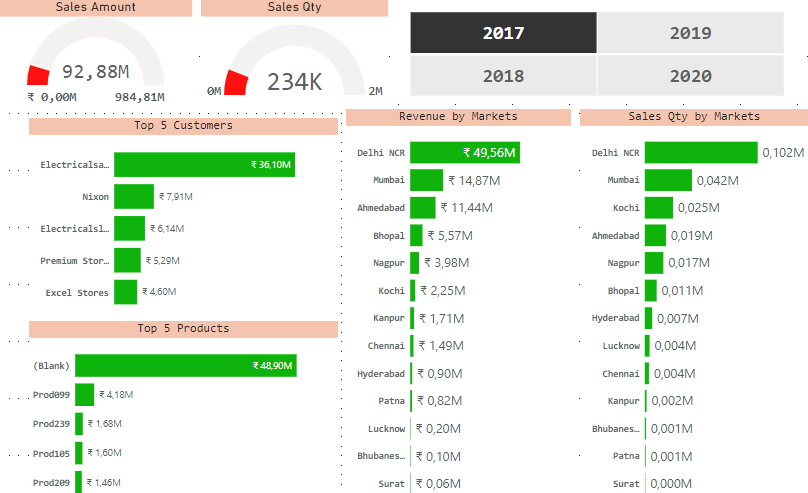

What the dashboard file says about the page in this screenshot:
{"tool":"powerbi","page":{"name":"KPIs (Listo)","canvas":[1350,850],"ordinal":0},"visuals":[{"type":"slicer","fields":{"Values":["sales date.year"]},"box":[660,15,671.7,153.3],"z":0},{"type":"gauge","title":"Sales Amount","fields":{"MinValue":["BaseMeasures (2).Measure 2"],"Y":["sales transactions.sales_amount"],"MaxValue":["BaseMeasures (2).Total Revenue"]},"box":[0,0,322.3,183.4],"z":1000},{"type":"gauge","title":"Sales Qty","fields":{"Y":["BaseMeasures (2).Sales Qty"],"MaxValue":["BaseMeasures (2).Max_sales_qty"],"MinValue":["BaseMeasures (2).Min_sales_qty"]},"box":[336,0,312,183.4],"z":2000},{"type":"barChart","title":"Revenue by Markets","fields":{"Y":["BaseMeasures (2).Revenue"],"Category":["sales markets.markets_name"]},"box":[578.3,183.3,375,666.7],"z":3000},{"type":"barChart","title":"Sales Qty by Markets","fields":{"Y":["BaseMeasures (2).Sales Qty"],"Category":["sales markets.markets_name"]},"box":[968.3,183.3,381.7,666.7],"z":4000},{"type":"barChart","title":"Top 5 Customers","fields":{"Y":["BaseMeasures (2).Revenue"],"Category":["sales customers.custmer_name"]},"box":[50,198.3,515,338.3],"z":5000},{"type":"barChart","title":"Top 5 Products","fields":{"Y":["BaseMeasures (2).Revenue"],"Category":["sales products.product_code"]},"box":[50,536.7,515,313.3],"z":6000}]}

Visuals, with their boxes on the page's 1350x850 design canvas (x1, y1, x2, y2). These are canvas units, not pixel positions in the 808x493 screenshot, which may show the page scaled, cropped or inside an application window:
slicer - sales date.year: <bbox>660, 15, 1332, 168</bbox>
"Sales Amount" gauge: <bbox>0, 0, 322, 183</bbox>
"Sales Qty" gauge: <bbox>336, 0, 648, 183</bbox>
"Revenue by Markets" barChart: <bbox>578, 183, 953, 850</bbox>
"Sales Qty by Markets" barChart: <bbox>968, 183, 1350, 850</bbox>
"Top 5 Customers" barChart: <bbox>50, 198, 565, 537</bbox>
"Top 5 Products" barChart: <bbox>50, 537, 565, 850</bbox>
